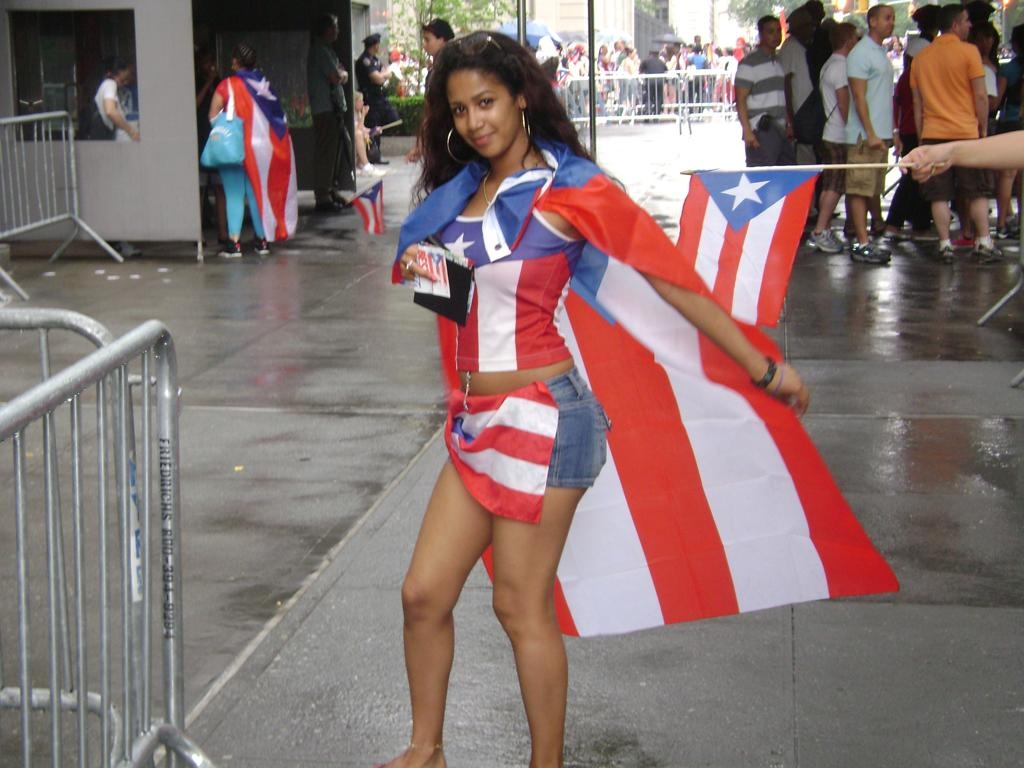human_face: (447, 70, 517, 158), (420, 27, 440, 57), (876, 5, 894, 36), (764, 18, 782, 46), (956, 10, 970, 40), (198, 53, 216, 73), (978, 34, 994, 54), (846, 29, 858, 52), (803, 18, 815, 40), (118, 60, 130, 80), (326, 19, 338, 38), (930, 14, 940, 32), (374, 38, 380, 52), (630, 48, 636, 58), (892, 42, 898, 51), (616, 40, 622, 48), (737, 40, 743, 48), (664, 46, 668, 56), (724, 48, 728, 54), (696, 35, 700, 41)
